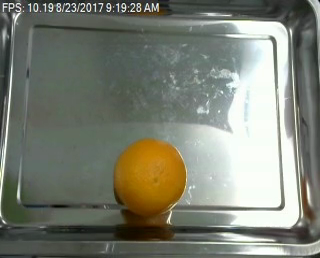Orange: (114, 138, 187, 215)
